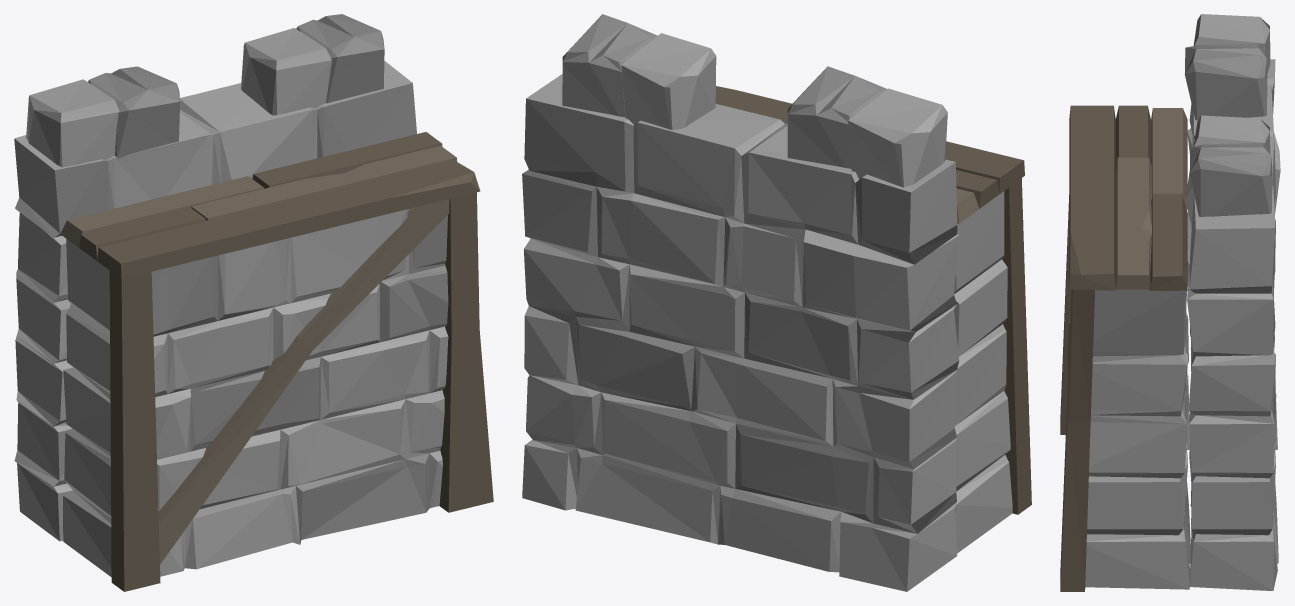
File: _WALL_01_FULL.fbx
3 views of the same model, side by side, from view 1: azimuth 30°, elevation 25°; view 2: azimuth 150°, elevation 25°; view 3: azimuth 270°, elevation 25° (orthographic). The views are drawn at different scales.
Parts seen in each view (by area): view 1: WALL_1_PART2_01, WALL_1_PART1_01; view 2: WALL_1_PART1_01, WALL_1_PART2_01; view 3: WALL_1_PART2_01, WALL_1_PART1_01.
Part boxes in pixels (x1,y1,x2,y2): WALL_1_PART2_01: (60,132,493,591); WALL_1_PART1_01: (14,14,416,541); WALL_1_PART1_01: (522,14,959,591); WALL_1_PART2_01: (715,86,1031,552); WALL_1_PART2_01: (1060,105,1190,591); WALL_1_PART1_01: (1184,14,1280,590).
Bounding box in the file's own units: 429 × 476 × 228.
